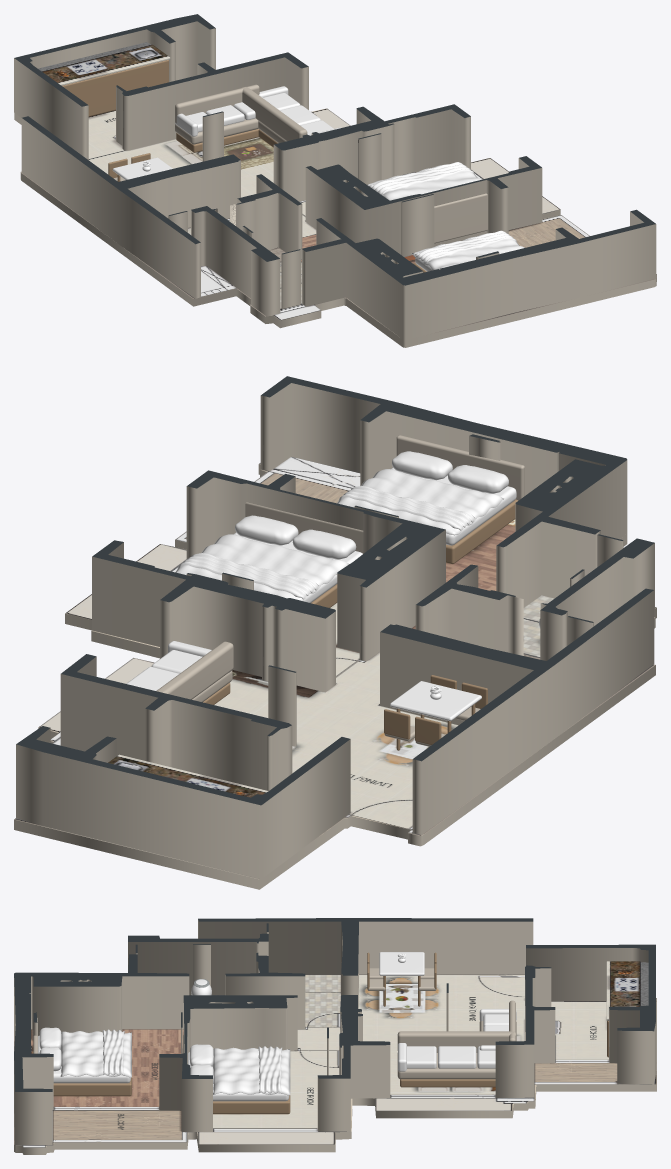
3 renders of one model, top to bottom at view 1: azimuth 30°, elevation 25°; view 2: azimuth 150°, elevation 25°; view 3: azimuth 270°, elevation 25°, orthographic. The views are drawn at different scales.
Visible parts, largest first — view 1: Partition walls, Apartment floor, Stone worktop, Kitchen cabinets, Upholstered headboard, Sofa back, Draped bed linen.001, Draped bed linen, Draped bed linen.002, Draped bed linen.003, Sofa back.001, Marble dining top (+2 smaller); view 2: Partition walls, Apartment floor, Draped bed linen, Draped bed linen.002, Upholstered headboard.001, Draped bed linen.001, Sofa back, Marble dining top, Draped bed linen.003, Stone worktop, Upholstered headboard, Walnut upholstered base.001 (+6 smaller); view 3: Partition walls, Apartment floor, Draped bed linen, Draped bed linen.002, Stone worktop, Sofa back, Upholstered sofa frame, Walnut upholstered base.001, Walnut upholstered base, Draped bed linen.001, Marble dining top, Draped bed linen.003 (+8 smaller).
Part boxes in pixels (left/top/right/bottom): Partition walls: left=14, top=14, right=656, bottom=340; Apartment floor: left=14, top=108, right=656, bottom=347; Stone worktop: left=38, top=42, right=170, bottom=85; Kitchen cabinets: left=62, top=60, right=168, bottom=116; Upholstered headboard: left=434, top=193, right=487, bottom=243; Sofa back: left=242, top=86, right=307, bottom=141; Draped bed linen.001: left=369, top=162, right=474, bottom=195; Draped bed linen: left=367, top=163, right=481, bottom=200; Draped bed linen.002: left=411, top=234, right=524, bottom=270; Draped bed linen.003: left=415, top=230, right=516, bottom=263; Sofa back.001: left=175, top=84, right=259, bottom=123; Marble dining top: left=112, top=157, right=172, bottom=179; Partition walls: left=16, top=376, right=654, bottom=879; Apartment floor: left=14, top=457, right=656, bottom=889; Draped bed linen: left=175, top=534, right=349, bottom=600; Draped bed linen.002: left=337, top=469, right=503, bottom=535; Upholstered headboard.001: left=396, top=435, right=524, bottom=500; Draped bed linen.001: left=177, top=553, right=318, bottom=599; Sofa back: left=156, top=641, right=233, bottom=699; Marble dining top: left=390, top=681, right=481, bottom=721; Draped bed linen.003: left=338, top=486, right=474, bottom=530; Stone worktop: left=108, top=754, right=268, bottom=797; Upholstered headboard: left=245, top=502, right=363, bottom=553; Walnut upholstered base.001: left=446, top=499, right=517, bottom=564; Partition walls: left=14, top=918, right=655, bottom=1144; Apartment floor: left=14, top=974, right=656, bottom=1154; Draped bed linen: left=213, top=1047, right=290, bottom=1095; Draped bed linen.002: left=60, top=1031, right=131, bottom=1077; Stone worktop: left=606, top=961, right=648, bottom=1020; Sofa back: left=397, top=1031, right=516, bottom=1052; Upholstered sofa frame: left=397, top=1052, right=495, bottom=1079; Walnut upholstered base.001: left=53, top=1077, right=131, bottom=1096; Walnut upholstered base: left=213, top=1095, right=290, bottom=1114; Draped bed linen.001: left=258, top=1046, right=282, bottom=1093; Marble dining top: left=379, top=952, right=424, bottom=975; Draped bed linen.003: left=102, top=1029, right=124, bottom=1075.
Bounding box in the file's own units: 8.14 × 1.3 × 12.53.
Materials: 10 (1 with a texture image).
